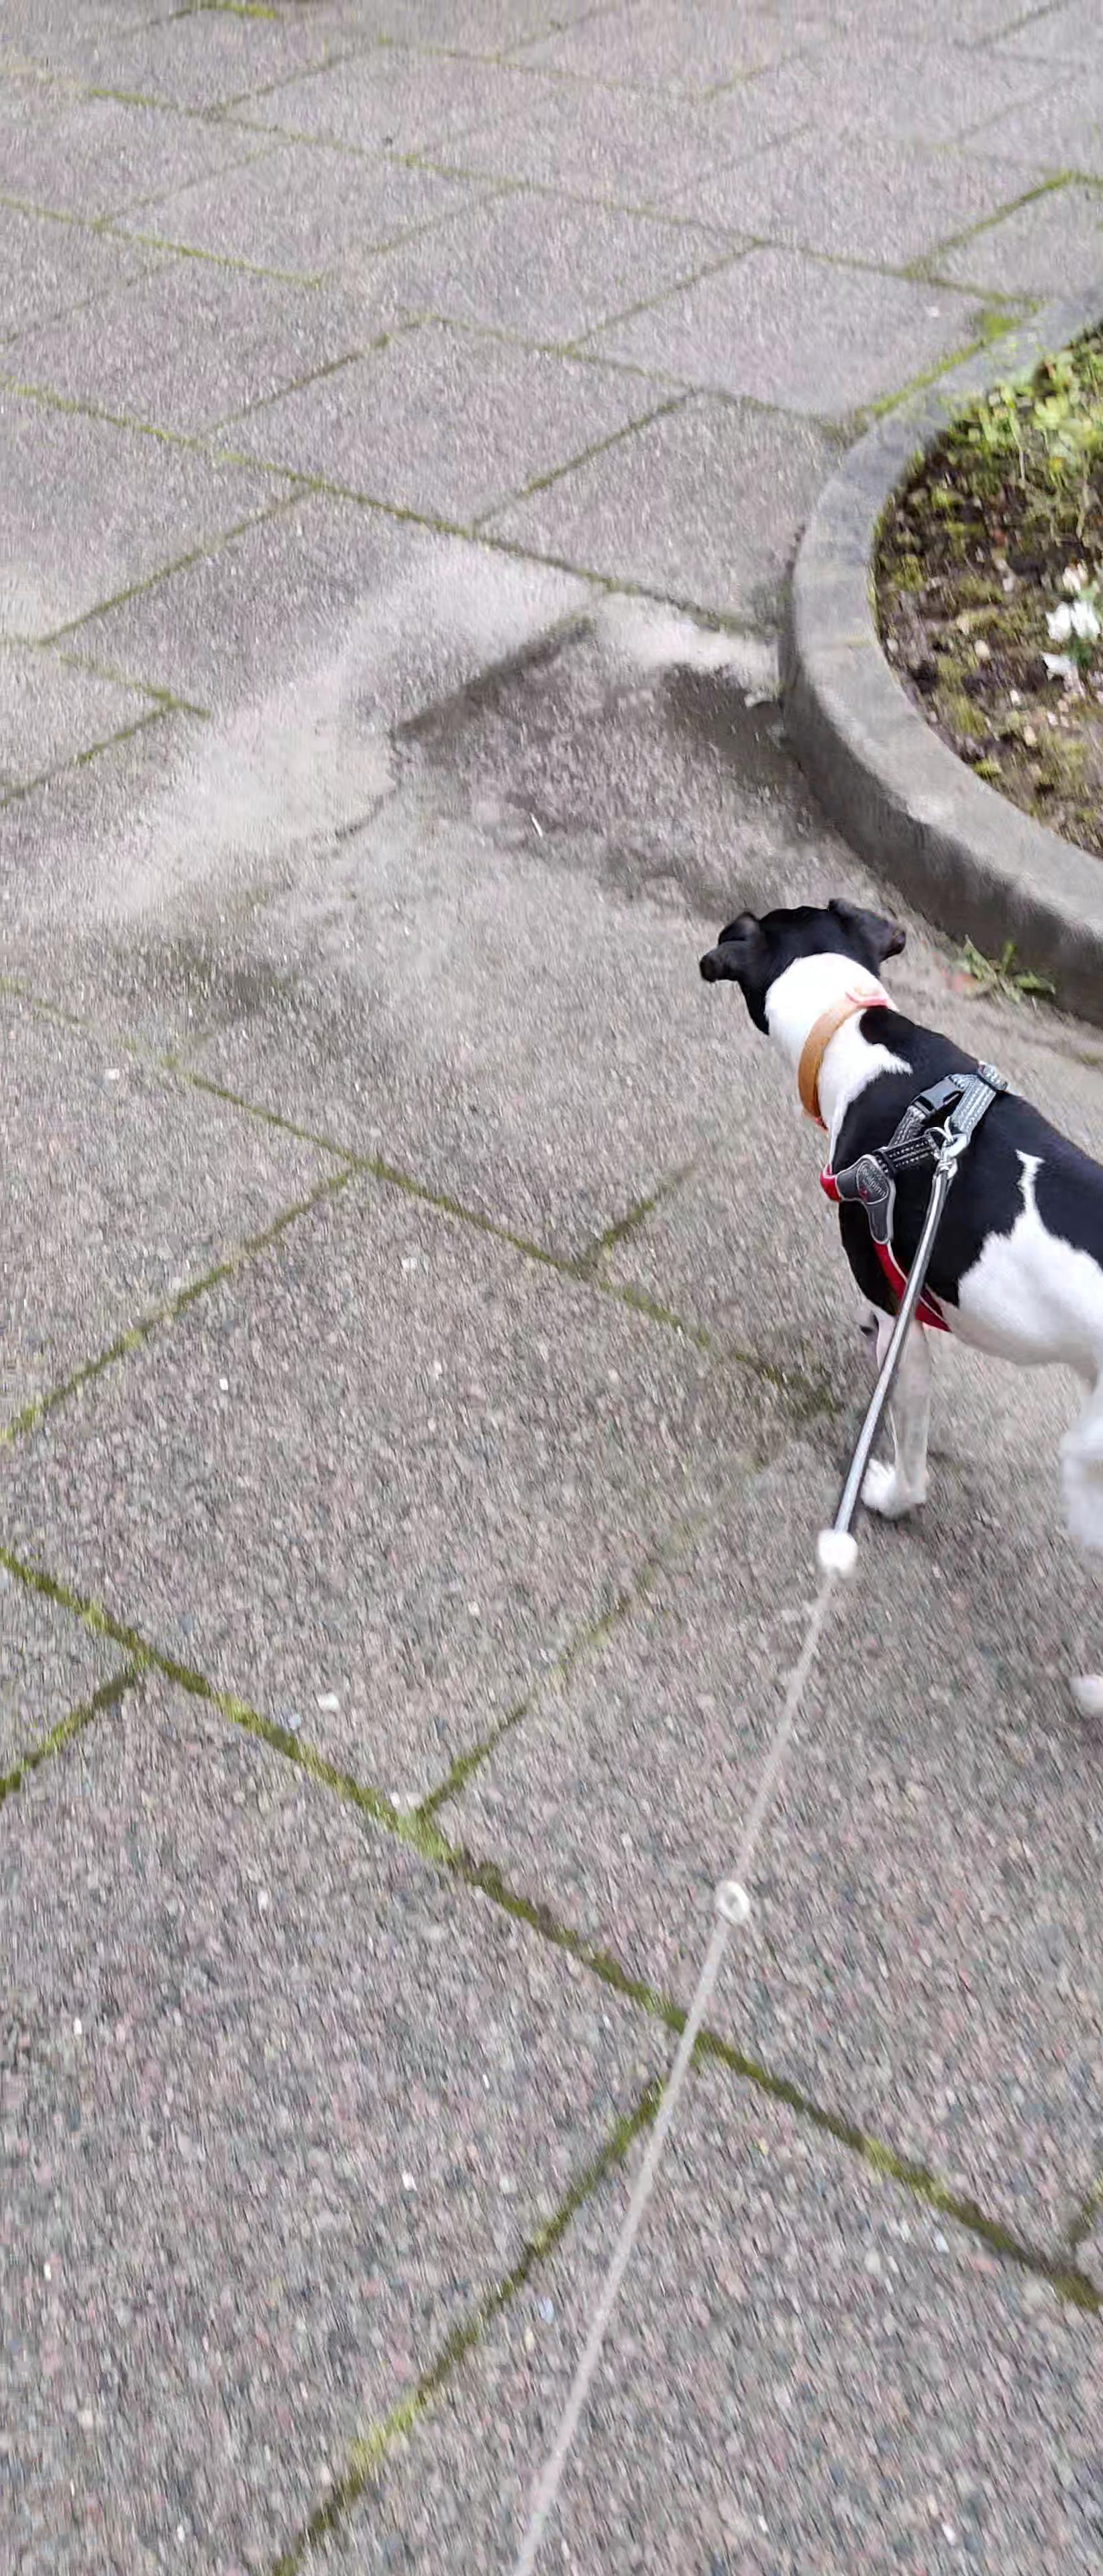Dog: (684, 876, 1103, 1733)
